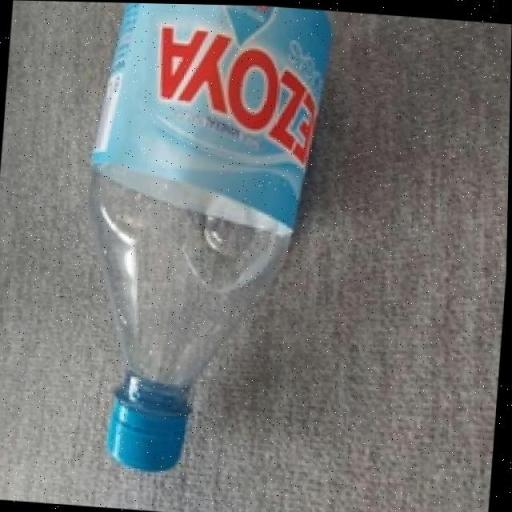plastic: (64, 1, 340, 500)
